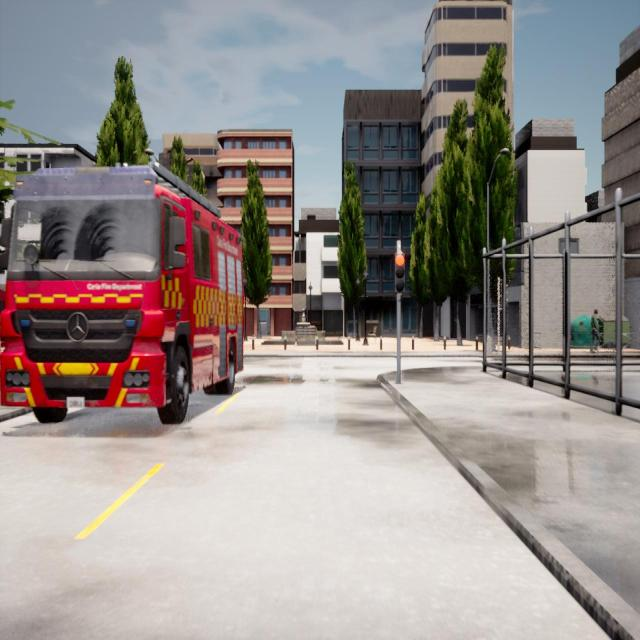Pedestrian: (590, 309, 600, 351)
Vehicle: (0, 171, 244, 423)
traffic_light: (395, 255, 404, 292)
